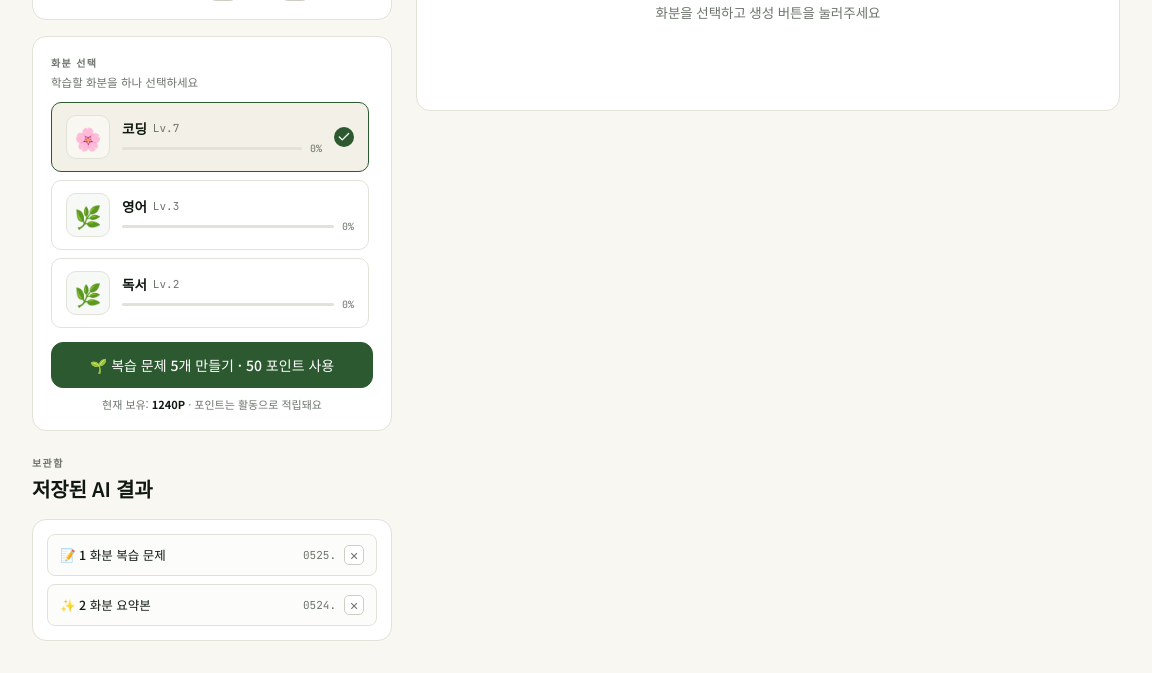
결과 저장 및 보관함 › 보관함 항목 삭제 실패 시 에러 메시지가 표시된다
The width and height of the screenshot is (1152, 673).
(page scrolled)
Click the button named "삭제". click: (354, 555)
box: x1=344 y1=545 x2=364 y2=565
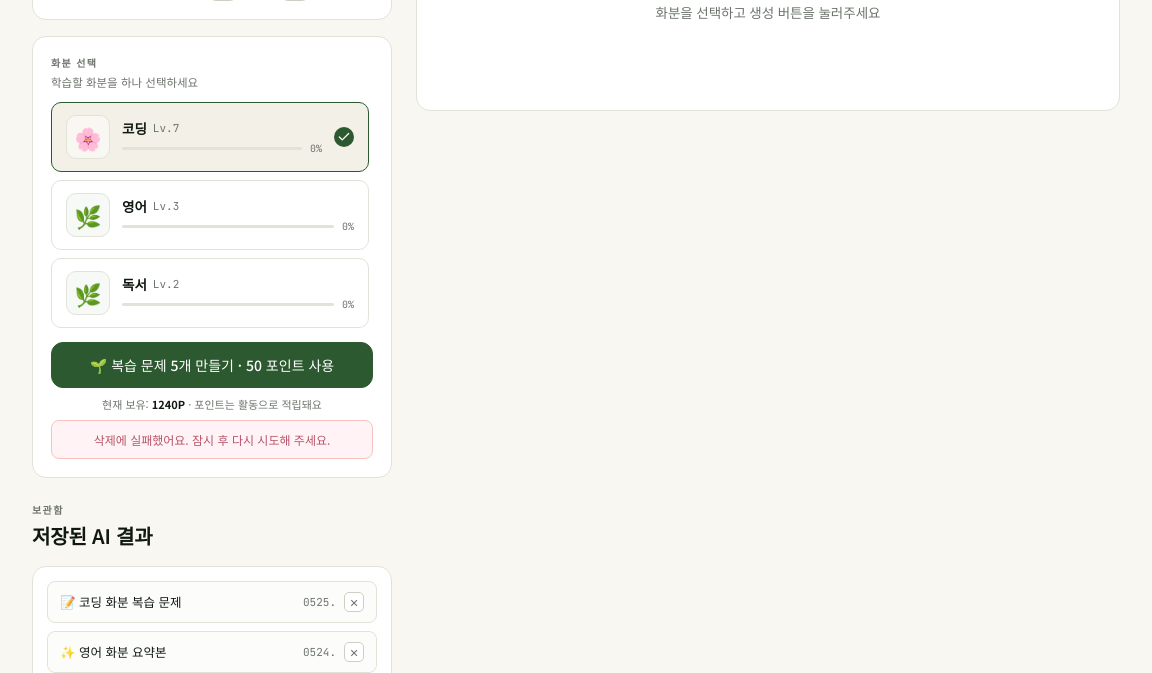
Expected: the text "삭제에 실패했어요. 잠시 후 다시 시도해 주세요." is shown, x1=51 y1=420 x2=373 y2=459
